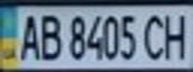0: (103, 11, 121, 61)
4: (84, 11, 106, 61)
5: (118, 10, 142, 61)
8: (63, 11, 87, 61)
A: (15, 10, 42, 62)
B: (36, 10, 63, 61)
C: (139, 10, 169, 61)
H: (160, 8, 193, 61)
